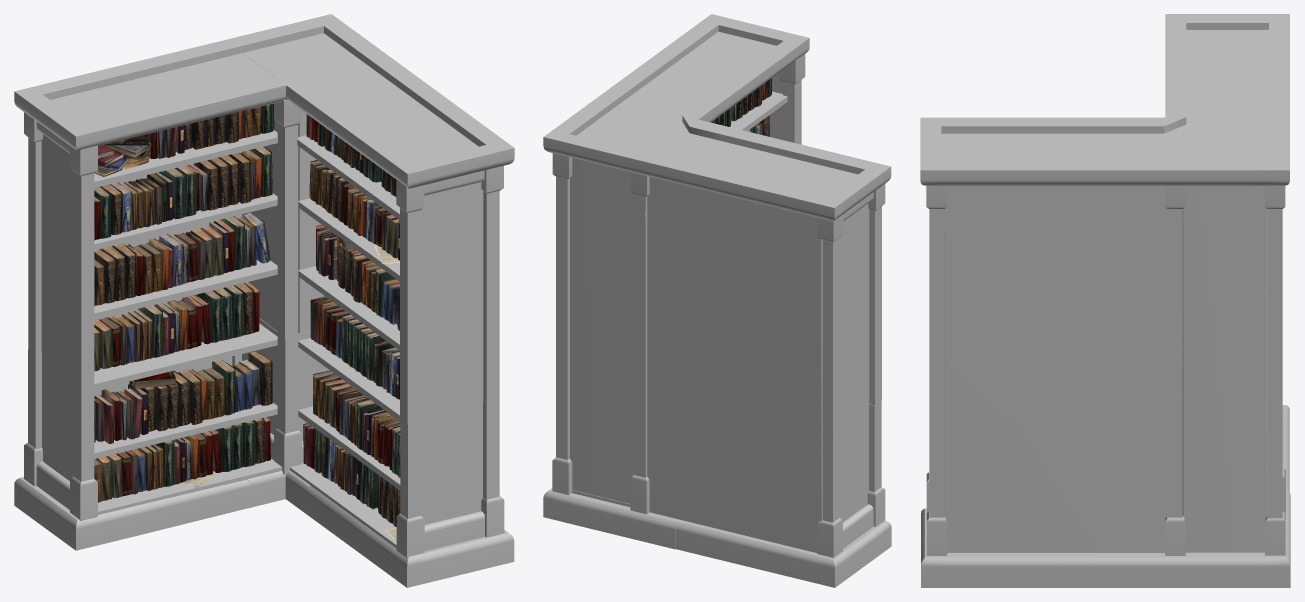
Rendered from BookCase02.fbx.
The picture shows the model from 3 angles, left to right: view 1: azimuth 30°, elevation 25°; view 2: azimuth 150°, elevation 25°; view 3: azimuth 270°, elevation 25°; orthographic projection. The views are drawn at different scales.
Visible parts, largest first — view 1: Bookcase_07, Book_010_20; view 2: Bookcase_07, Book_010_20; view 3: Bookcase_07.
Boxes of the visible parts, x1=… form: Bookcase_07: x1=14, y1=14, x2=514, y2=587; Book_010_20: x1=94, y1=103, x2=400, y2=540; Bookcase_07: x1=543, y1=14, x2=891, y2=587; Book_010_20: x1=711, y1=78, x2=771, y2=136; Bookcase_07: x1=920, y1=14, x2=1290, y2=587.
Size of the model in its own units: 202 by 251 by 202.
